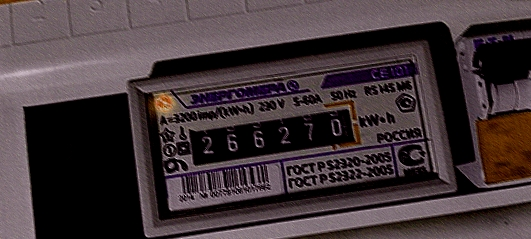0: (328, 115, 344, 137)
2: (199, 133, 216, 155), (276, 123, 293, 145)
6: (224, 130, 240, 153), (251, 128, 267, 149)
7: (302, 120, 316, 140)
screen: (178, 95, 368, 172)
